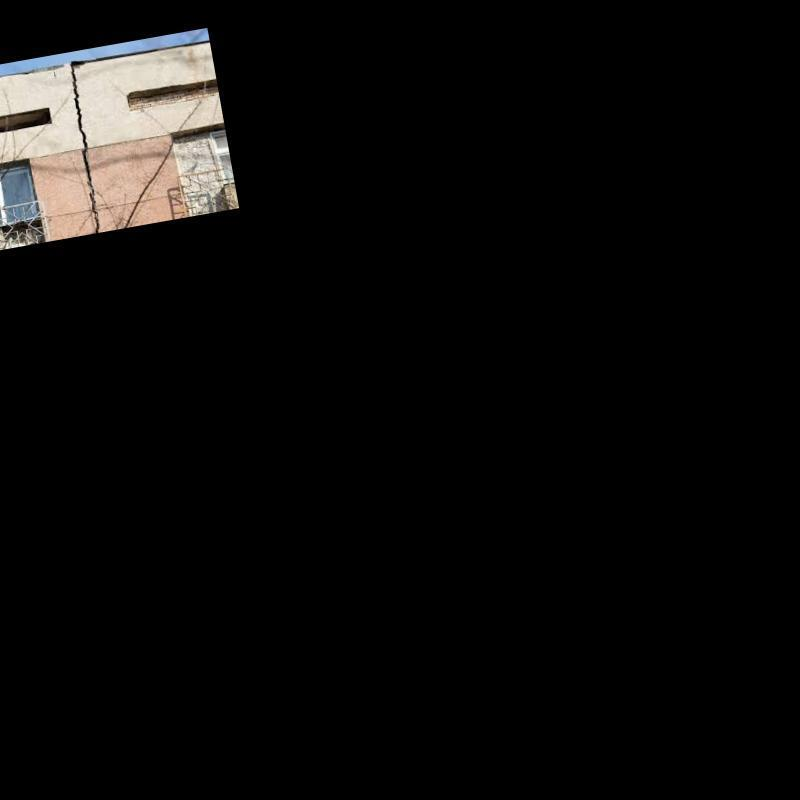pothole: (69, 63, 100, 234)
